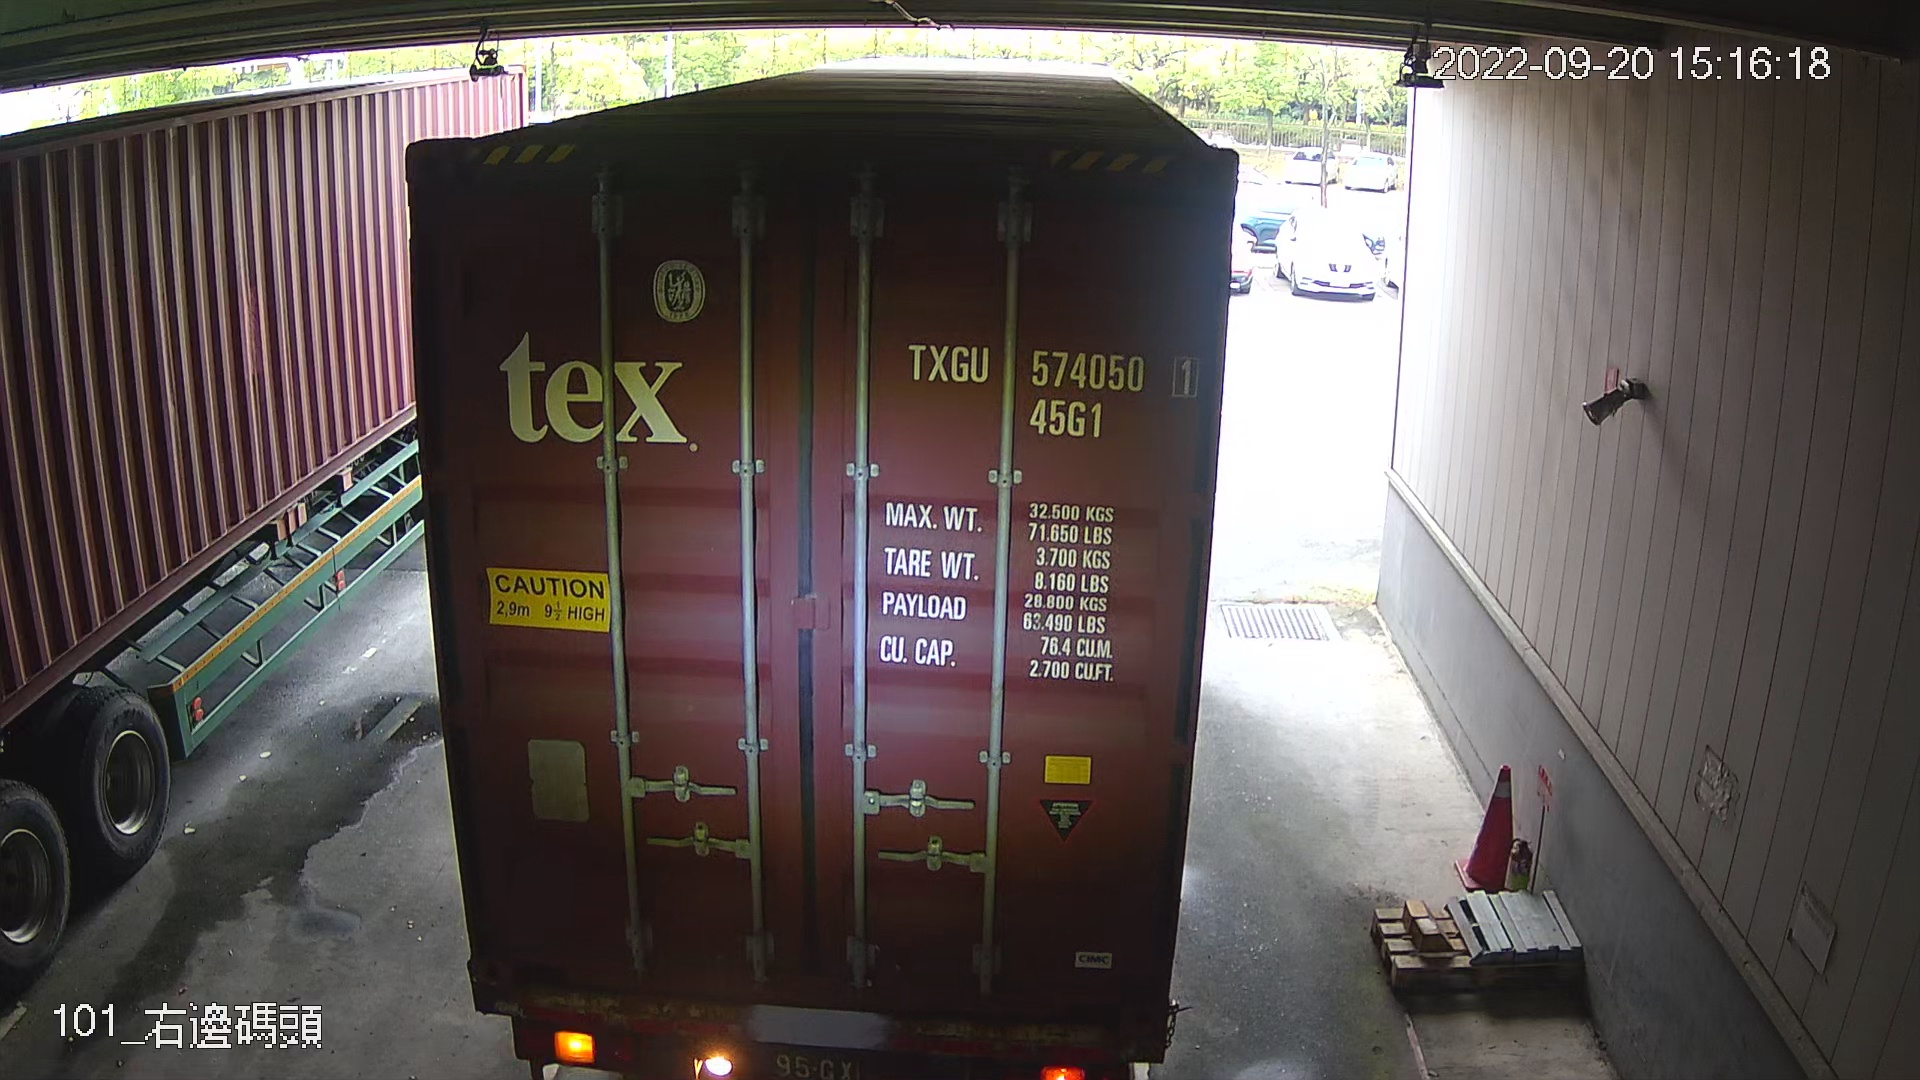container: (897, 324, 1207, 442)
